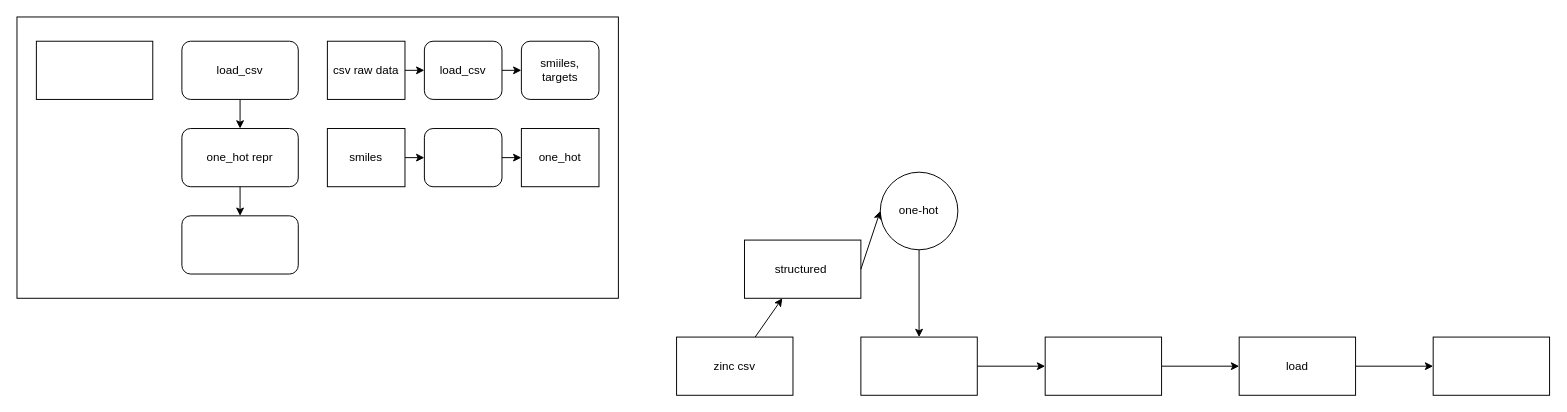
This 1567x412 diagram has some shape labels left out. Each missing label, with the box of its shape:
Dataset._one _hot: (423, 128, 502, 187)
loader: (1432, 336, 1550, 395)
save: (1044, 336, 1162, 395)
save one_hot data: (181, 215, 298, 274)
split_data: (35, 40, 153, 99)
torch dataset: (860, 336, 977, 395)
